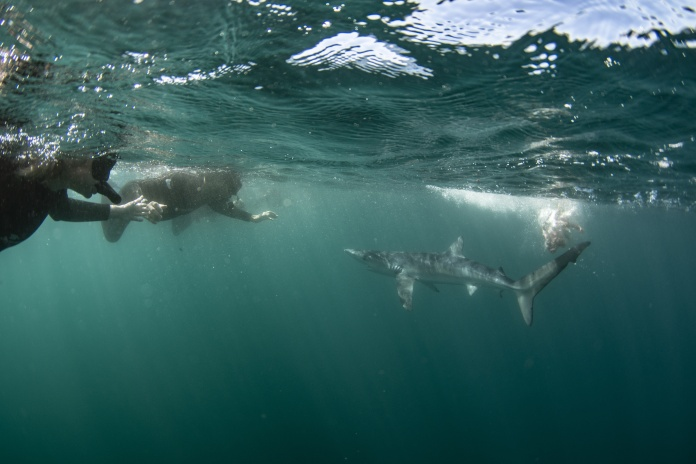Azul: (330, 221, 610, 341)
